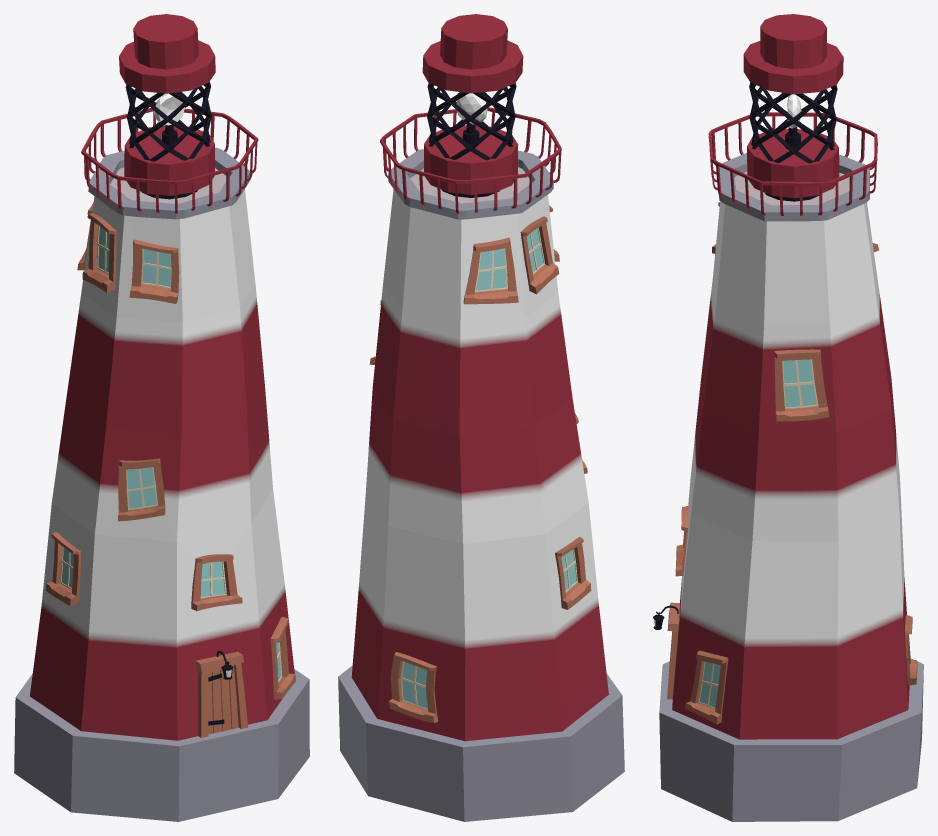
Rendered from Lighthouse_05.fbx.
The picture shows the model from 3 angles, left to right: view 1: azimuth 30°, elevation 25°; view 2: azimuth 150°, elevation 25°; view 3: azimuth 270°, elevation 25°; orthographic projection.
Visible parts, largest first — view 1: Lighthouse_05; view 2: Lighthouse_05; view 3: Lighthouse_05.
Boxes of the visible parts, left/top/right/bottom form: Lighthouse_05: left=14, top=14, right=309, bottom=821; Lighthouse_05: left=338, top=14, right=624, bottom=821; Lighthouse_05: left=653, top=14, right=923, bottom=821.
Bounding box in the file's own units: 633 × 1857 × 617.
